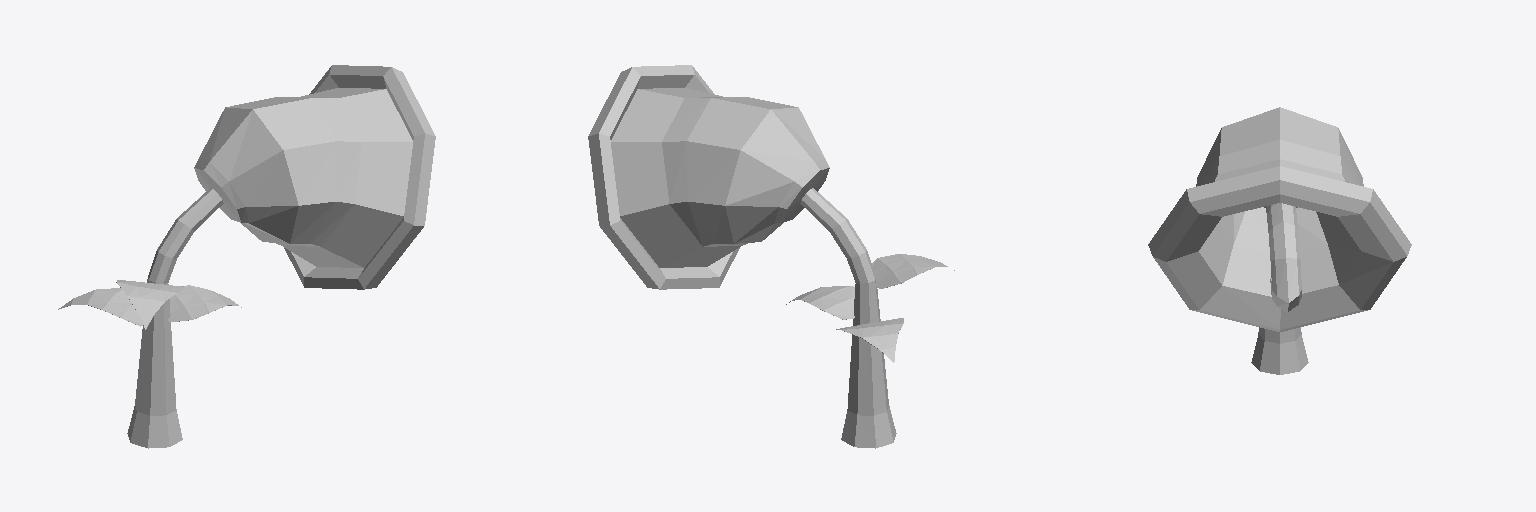
File: flower1.obj
3 renders of one model, left to right at view 1: azimuth 30°, elevation 25°; view 2: azimuth 150°, elevation 25°; view 3: azimuth 270°, elevation 25°, orthographic.
Parts seen in each view (by area): view 1: polySurface4, polySurface6; view 2: polySurface4, polySurface6; view 3: polySurface4.
Part boxes in pixels (left/top/right/bottom): polySurface4: left=127, top=65, right=435, bottom=448; polySurface6: left=58, top=280, right=241, bottom=329; polySurface4: left=588, top=65, right=896, bottom=448; polySurface6: left=786, top=254, right=954, bottom=362; polySurface4: left=1148, top=107, right=1411, bottom=374.
Size of the model in its own units: 4.8 by 4.41 by 3.37.